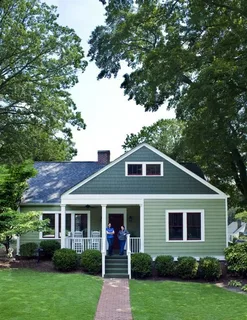private_hause: (27, 154, 230, 266)
